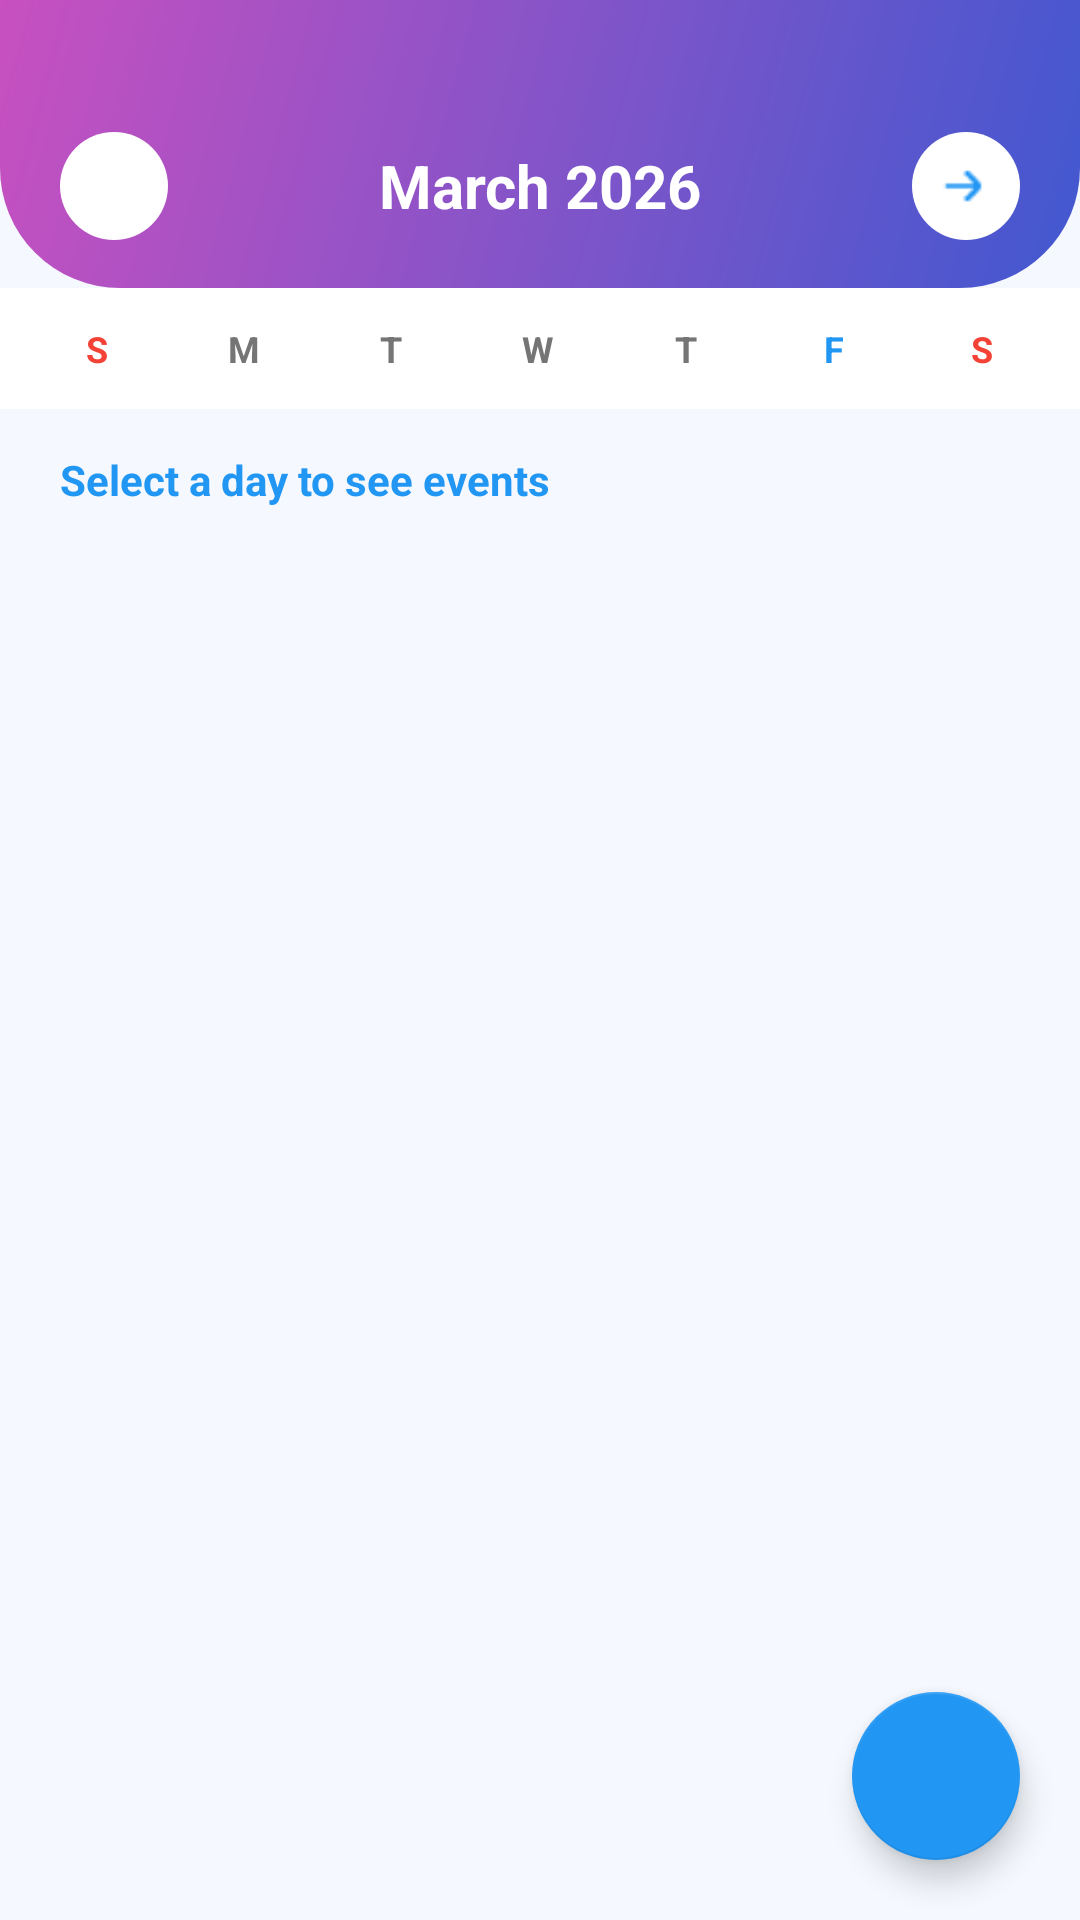

Named icons in this screenshot (1080*1920) and their centers, point (x, y):
arrow forward: point (966, 186)
